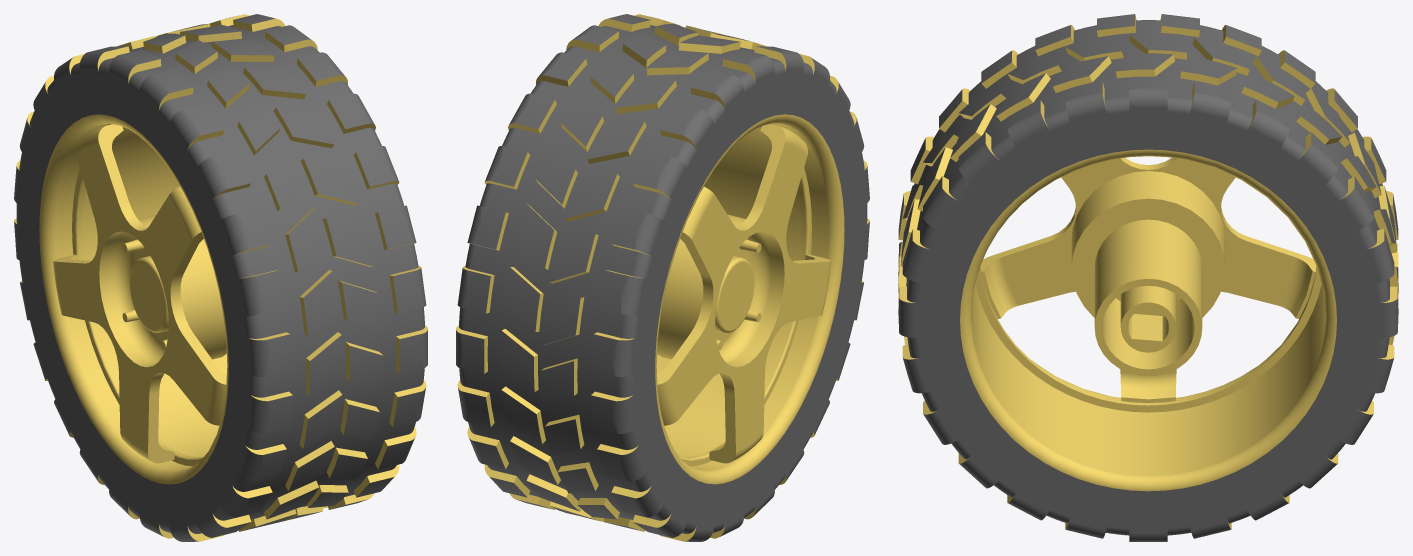
File: roda_esquerda.dae
3 renders of one model, left to right at view 1: azimuth 30°, elevation 25°; view 2: azimuth 150°, elevation 25°; view 3: azimuth 270°, elevation 25°, orthographic.
Parts seen in each view (by area): view 1: roda esquerda; view 2: roda esquerda; view 3: roda esquerda.
Part boxes in pixels (left/top/right/bottom): roda esquerda: left=14, top=14, right=427, bottom=541; roda esquerda: left=456, top=14, right=869, bottom=541; roda esquerda: left=898, top=14, right=1398, bottom=541.
Size of the model in its own units: 0.0464 by 0.107 by 0.107.
